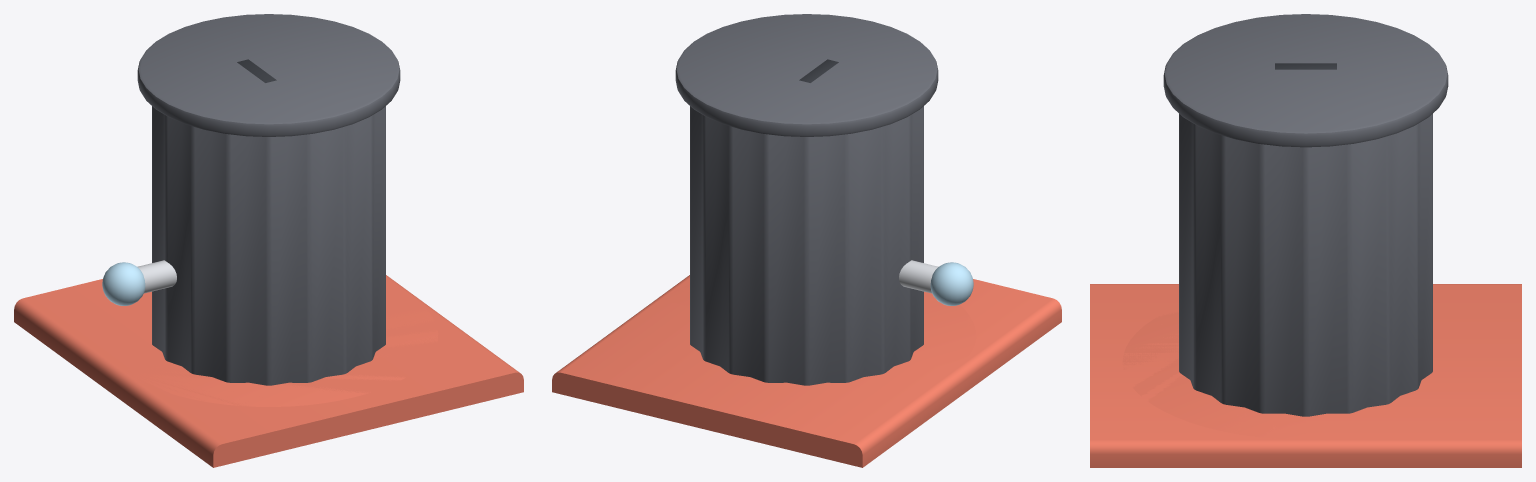
Rendered from SM_Conveyor.fbx.
3 renders of one model, left to right at view 1: azimuth 30°, elevation 25°; view 2: azimuth 150°, elevation 25°; view 3: azimuth 270°, elevation 25°, orthographic. The views are drawn at different scales.
Parts seen in each view (by area): view 1: SM_ConveyorDrum, SM_ConveyorLidMid, SM_ConveyorLidEnd, SM_ConveyorSpikeTip, SM_ConveyorSpike; view 2: SM_ConveyorDrum, SM_ConveyorLidMid, SM_ConveyorLidEnd, SM_ConveyorSpikeTip, SM_ConveyorSpike; view 3: SM_ConveyorDrum, SM_ConveyorLidMid, SM_ConveyorLidEnd.
Boxes of the visible parts, x1,y1,x2,y2 form: SM_ConveyorDrum: (137,14,400,385); SM_ConveyorLidMid: (14,275,523,467); SM_ConveyorLidEnd: (126,307,438,406); SM_ConveyorSpikeTip: (102,262,145,305); SM_ConveyorSpike: (137,260,176,293); SM_ConveyorDrum: (675,14,938,385); SM_ConveyorLidMid: (552,275,1061,467); SM_ConveyorLidEnd: (660,284,976,371); SM_ConveyorSpikeTip: (930,262,973,305); SM_ConveyorSpike: (899,260,938,293); SM_ConveyorDrum: (1163,14,1448,416); SM_ConveyorLidMid: (1090,284,1521,467); SM_ConveyorLidEnd: (1122,312,1305,439).
Size of the model in its own units: 0.925 by 0.8 by 1.
